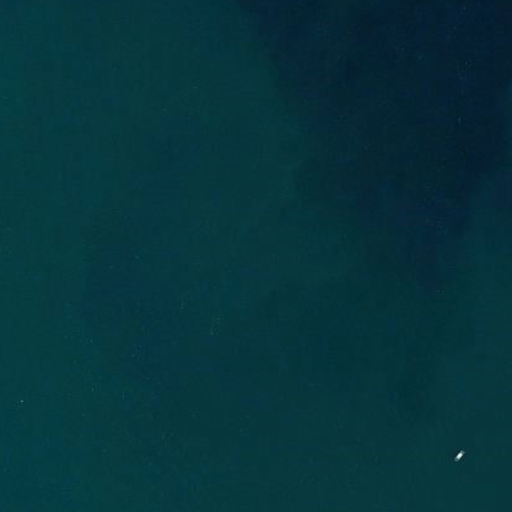ship: (451, 449, 467, 465)
